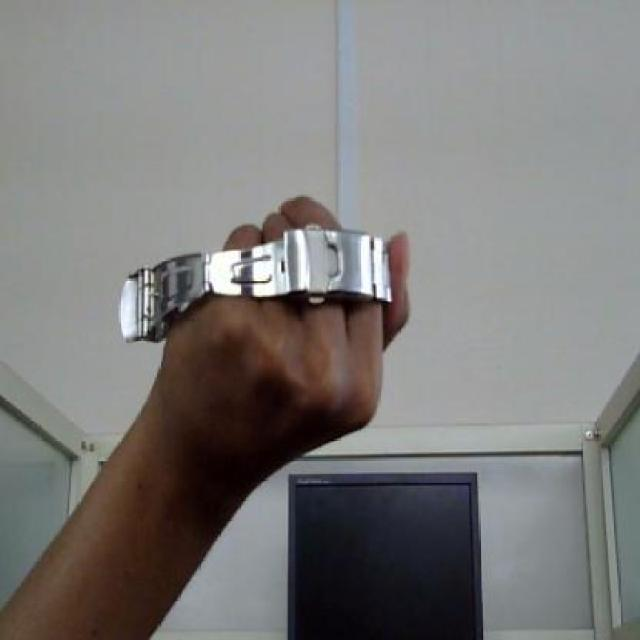Metal: (112, 218, 398, 350)
